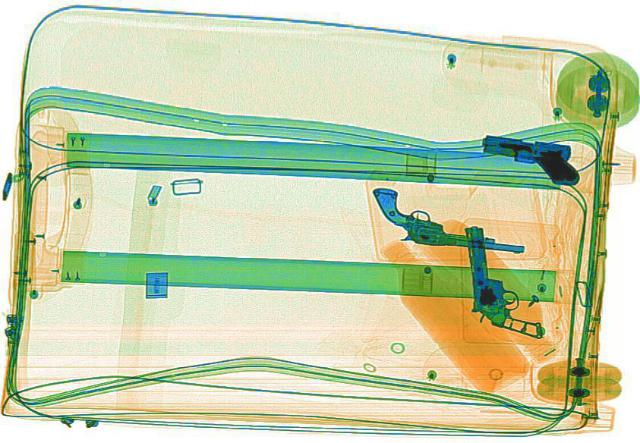Gun: (356, 184, 538, 255), (465, 223, 543, 340), (467, 132, 587, 183)
